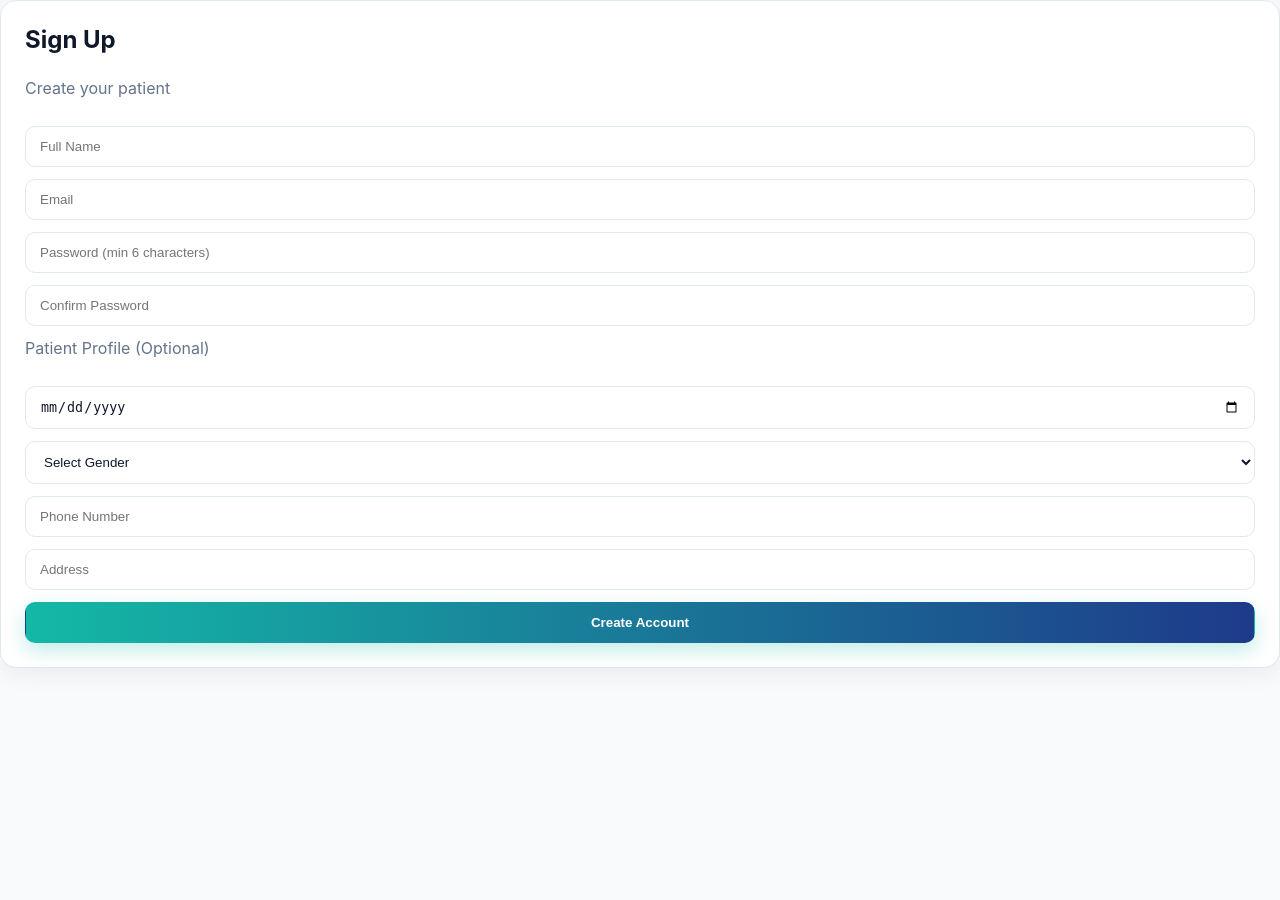
Test: Signup Form Validation › shows error when passwords do not match
This screenshot has width=1280, height=900.
In the field with placeholder "Full Name": (640, 146) [25,126,1255,167], type "Alice"
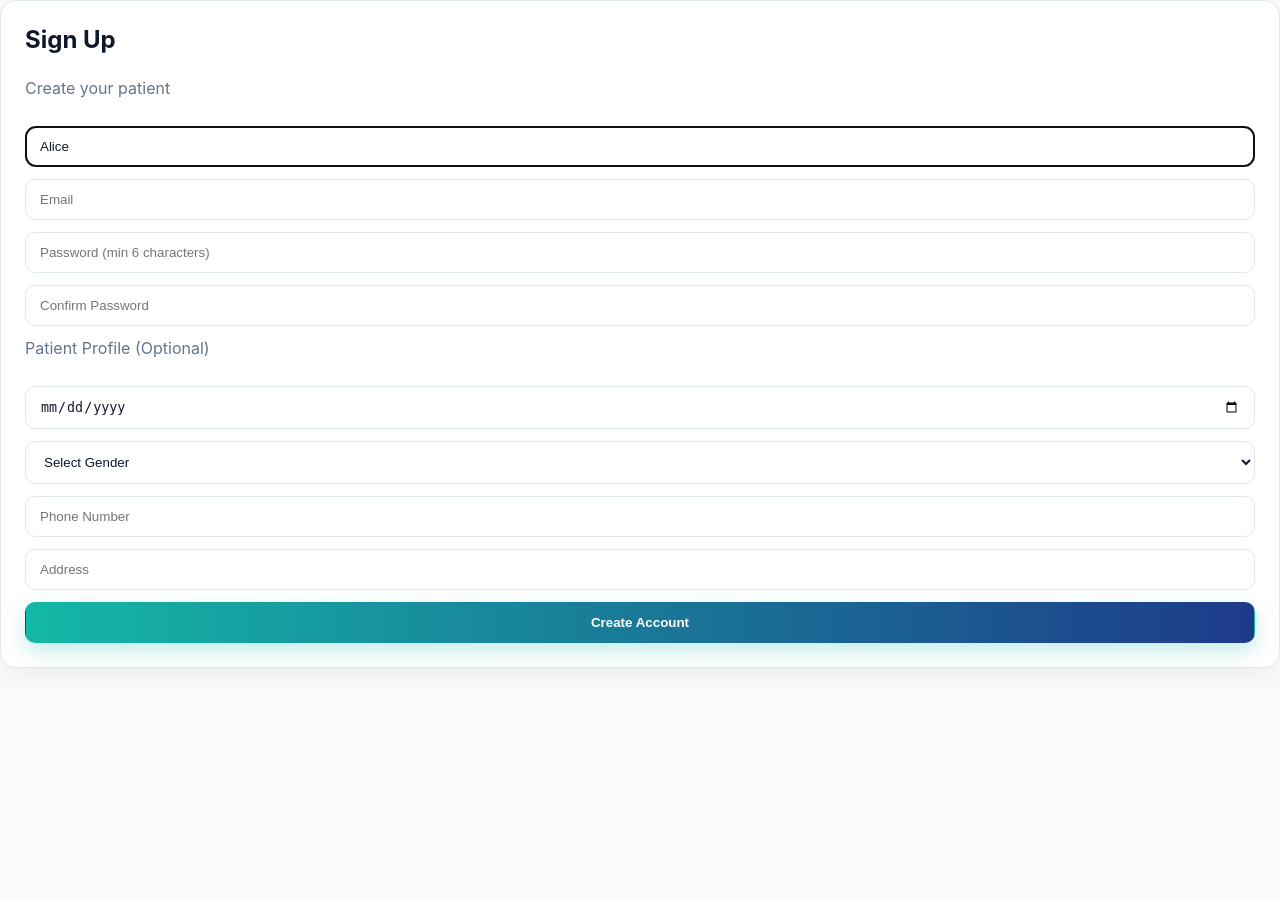
In the field with placeholder "Email": (640, 200) [25,179,1255,220], type "alice@test.com"
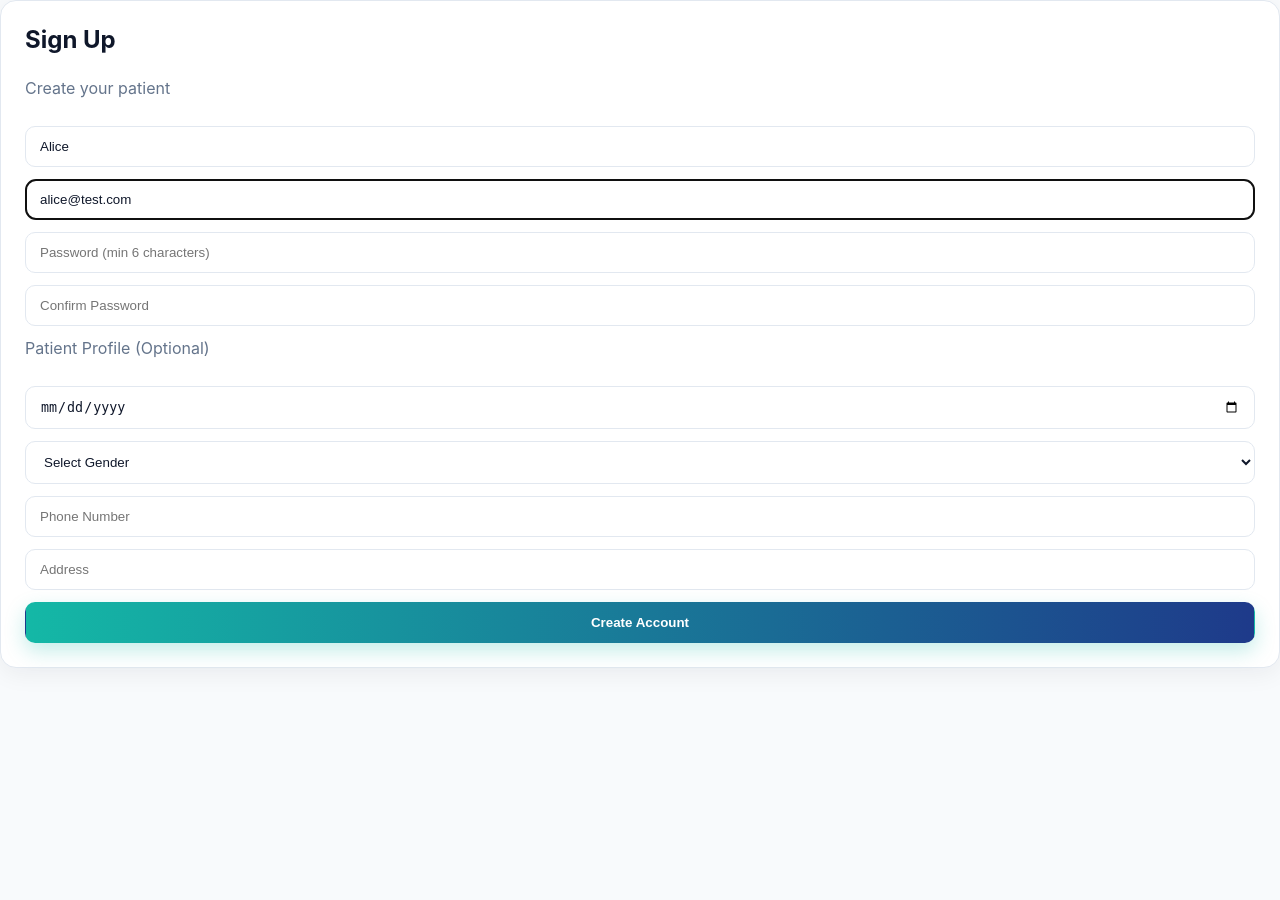
In the password field with placeholder "Password (min 6 characters)": (640, 252) [25,232,1255,273], type "abc123"
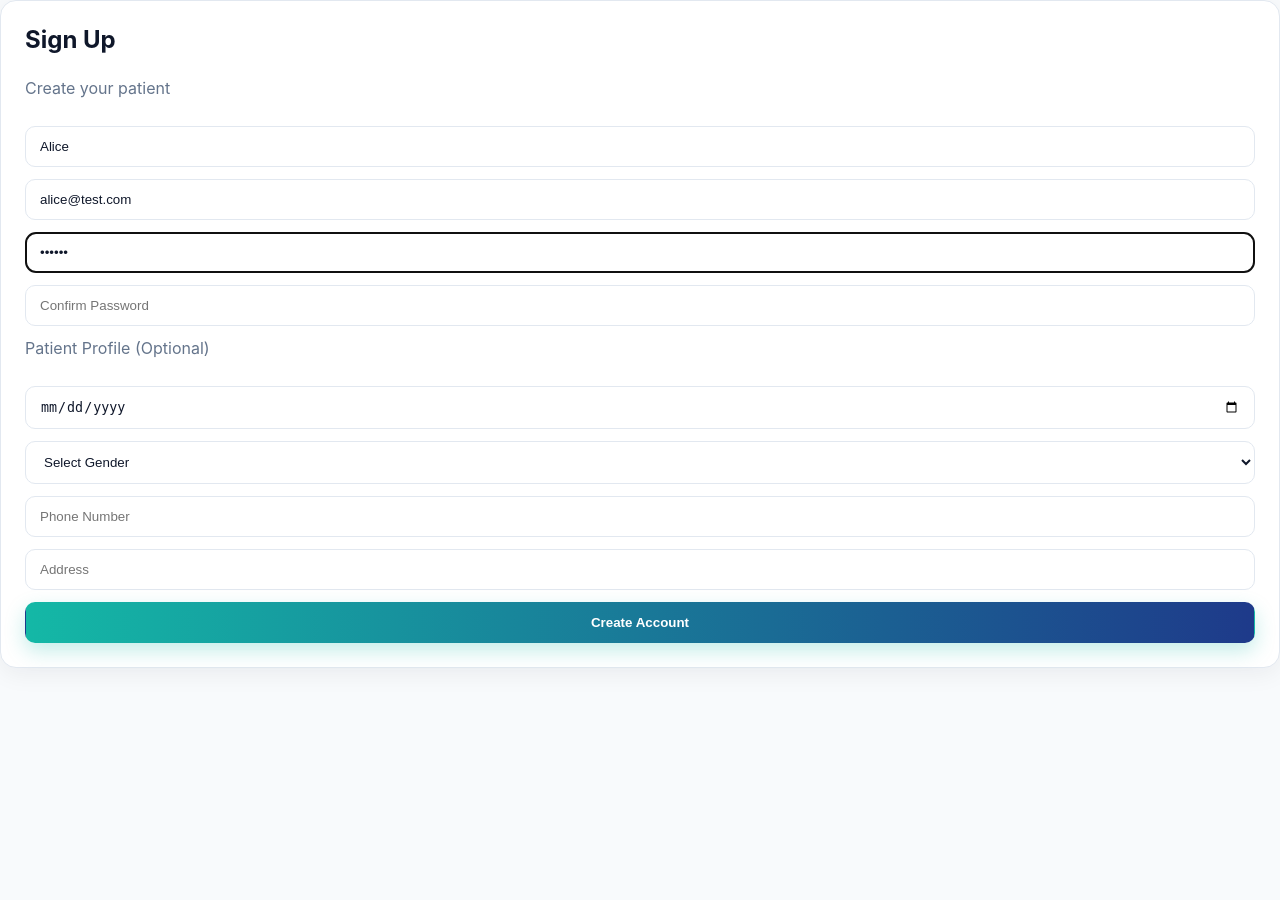
In the password field with placeholder "Confirm Password": (640, 306) [25,285,1255,326], type "different"
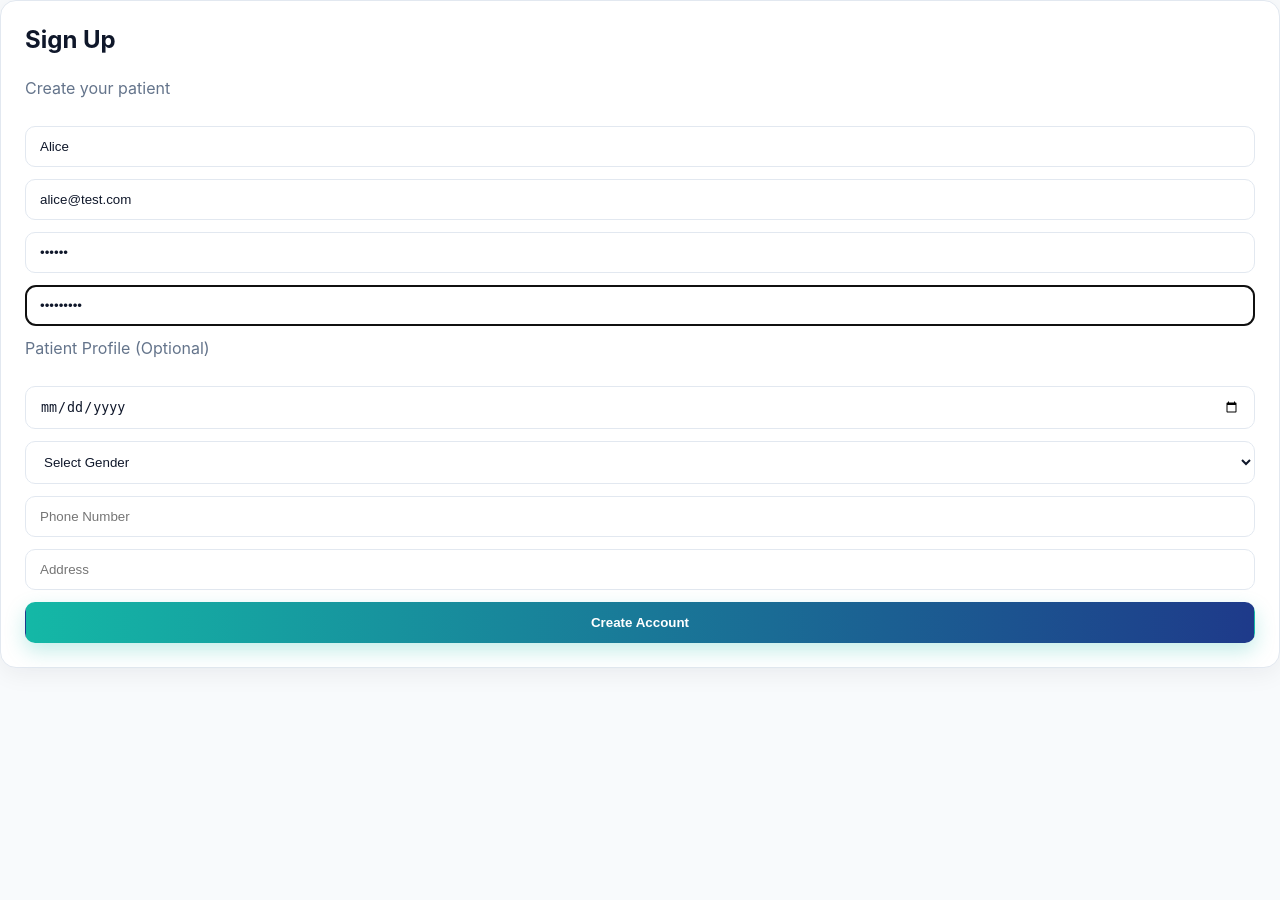
Click the button "Create Account": (640, 623) [25,602,1255,643]
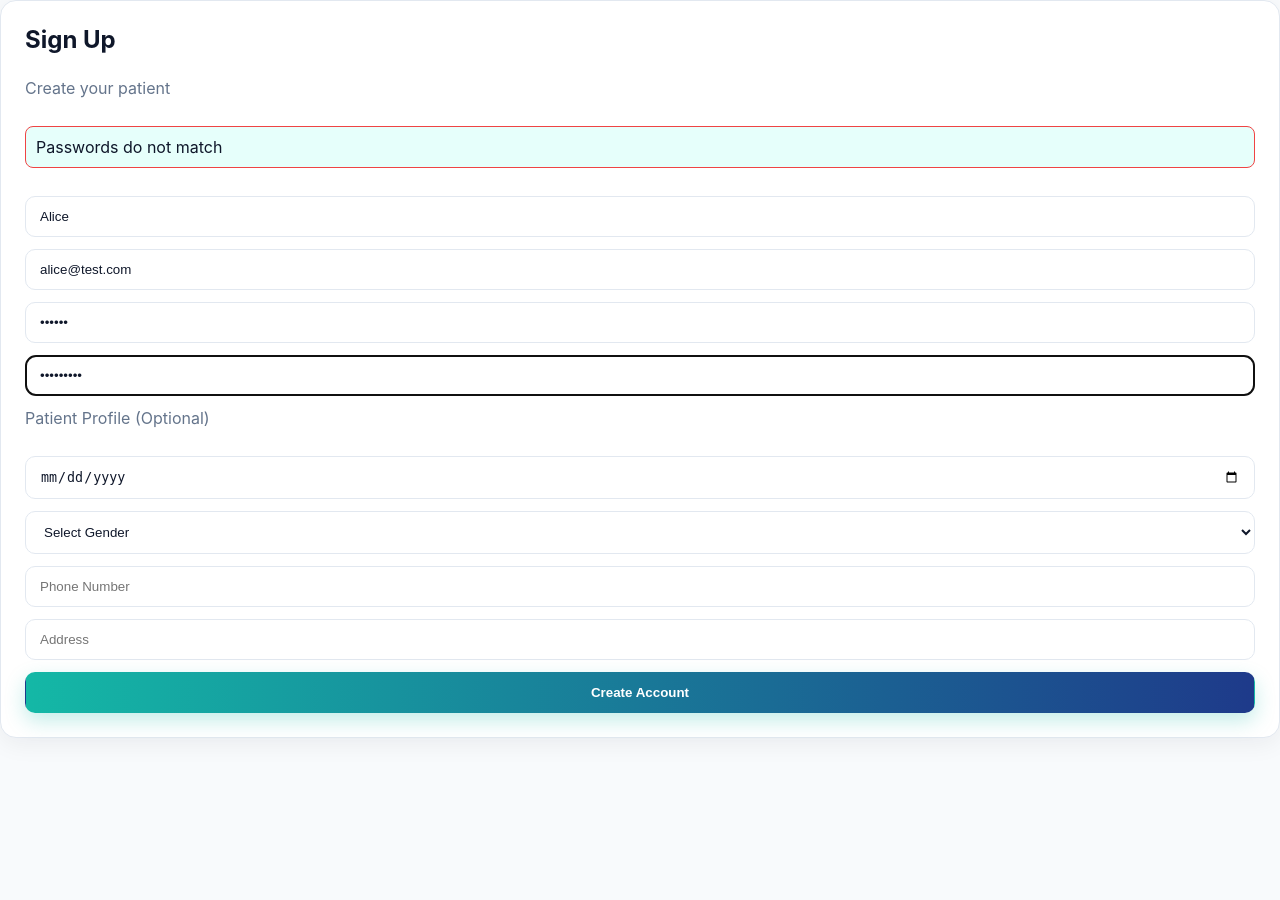
Result: the text "Passwords do not match" is shown at [36,137,222,157]
